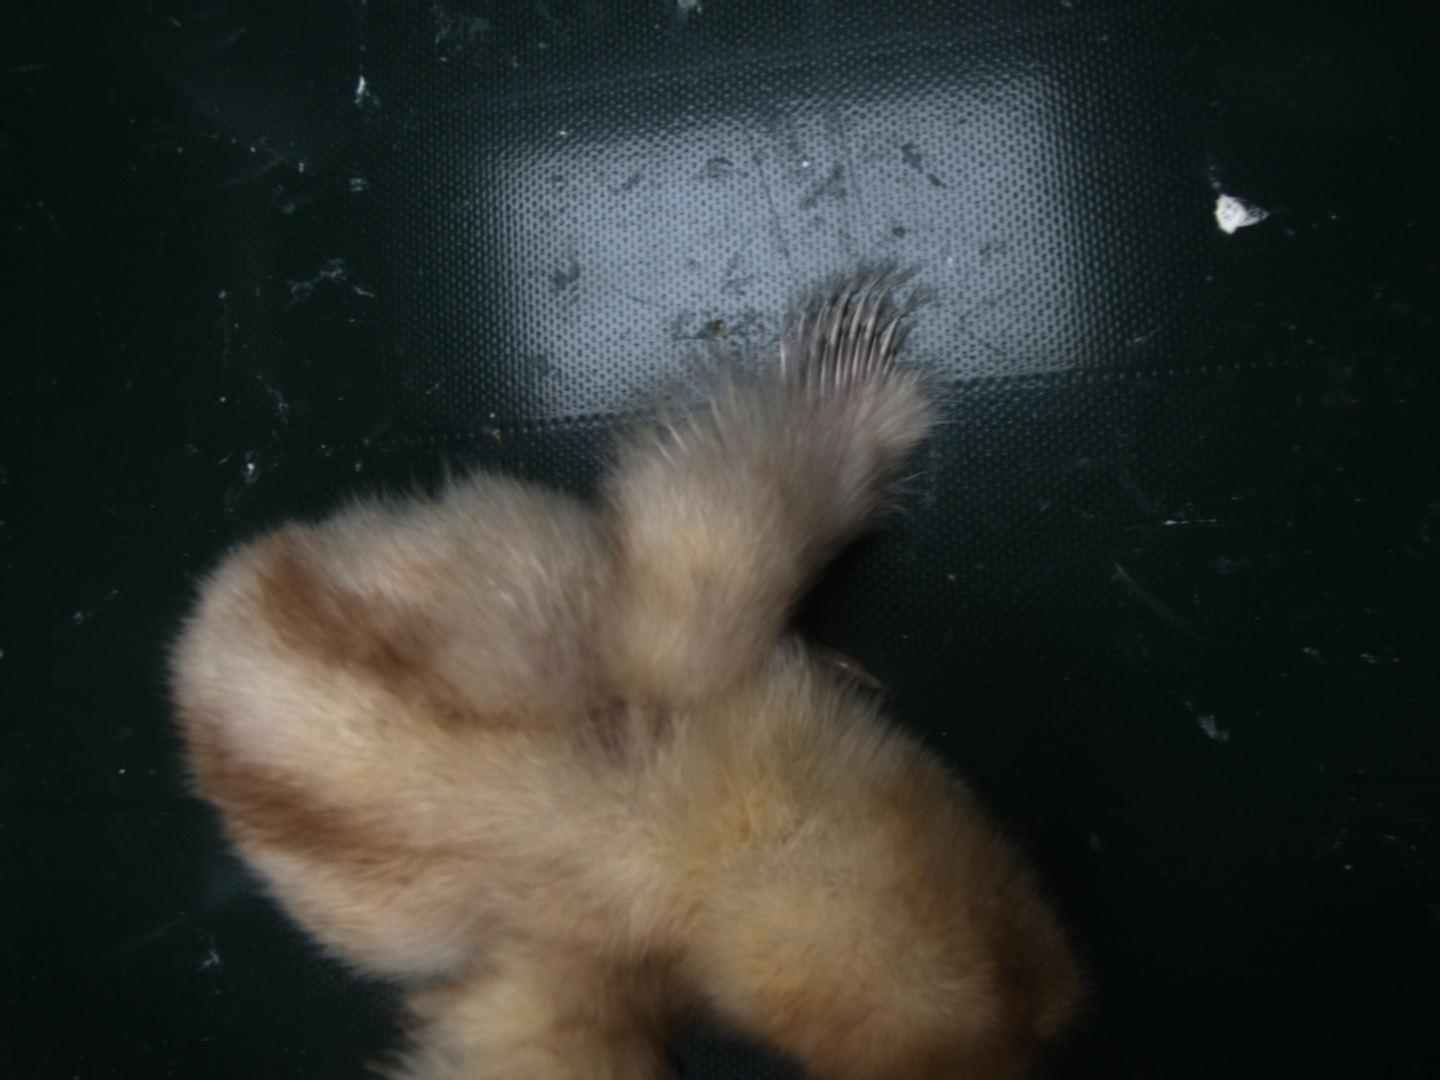female: (773, 292, 908, 407)
